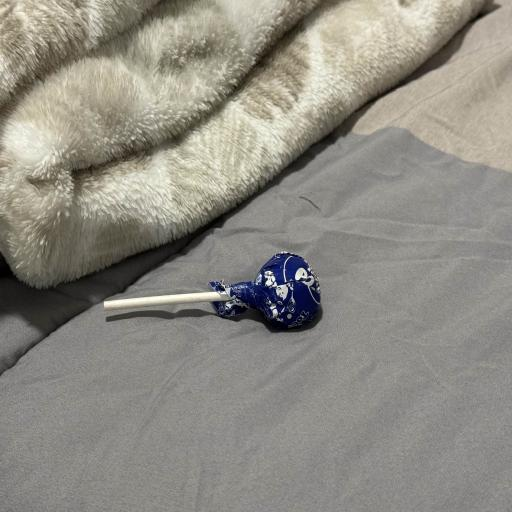chocolate: (104, 251, 320, 328)
